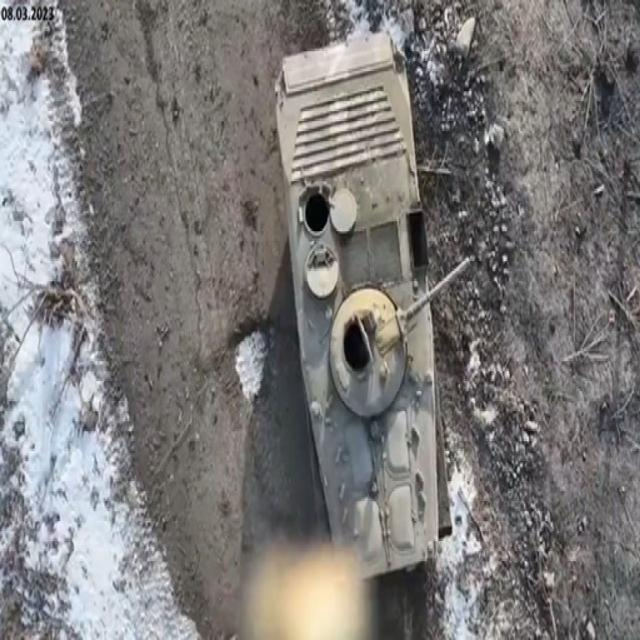APC-IFV: (264, 27, 455, 584)
